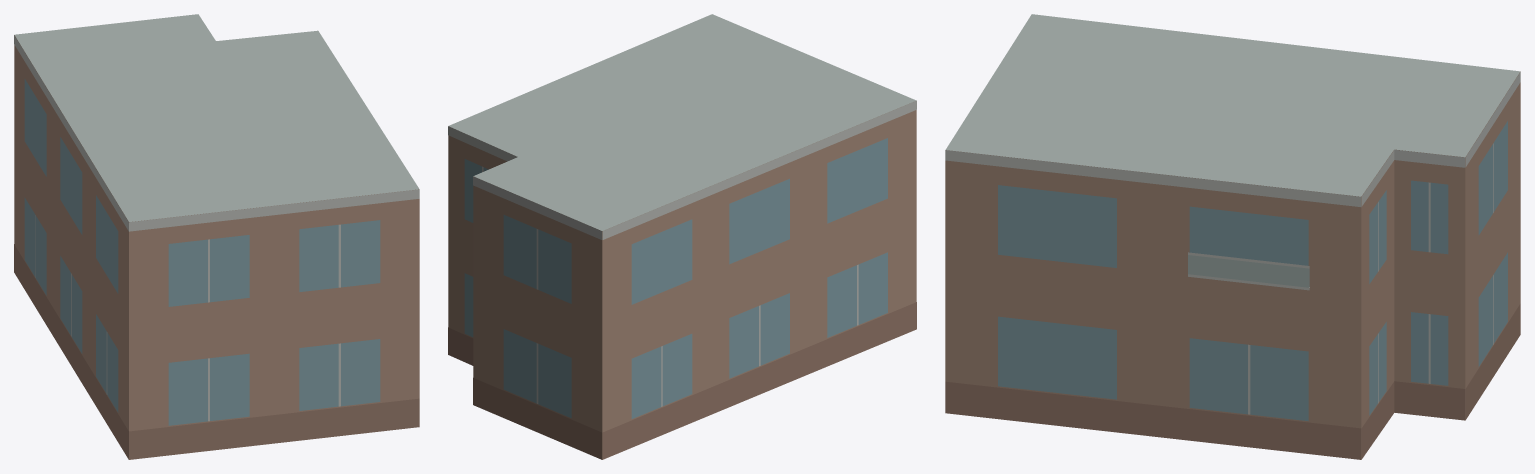
File: survey-upis-32830355.glb
3 views of the same model, side by side, from view 1: azimuth 30°, elevation 25°; view 2: azimuth 150°, elevation 25°; view 3: azimuth 270°, elevation 25° (orthographic). The views are drawn at different scales.
Parts seen in each view (by area): view 1: survey-upis-32830355.tmp; view 2: survey-upis-32830355.tmp; view 3: survey-upis-32830355.tmp.
Boxes of the visible parts, x1,y1,x2,y2 form: survey-upis-32830355.tmp: (14,14,419,459); survey-upis-32830355.tmp: (448,14,916,459); survey-upis-32830355.tmp: (945,14,1520,459).
Bounding box in the file's own units: 9.09 × 6.1 × 12.09.
